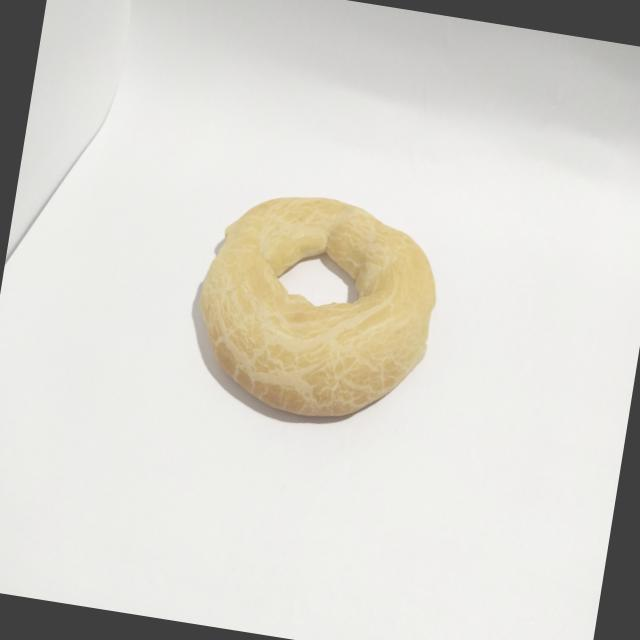Chipa: (172, 175, 460, 449)
